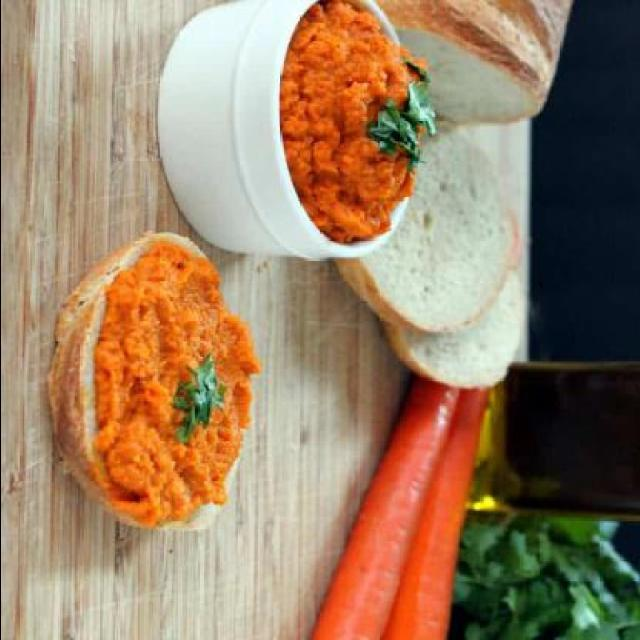Spread: (90, 243, 264, 537)
